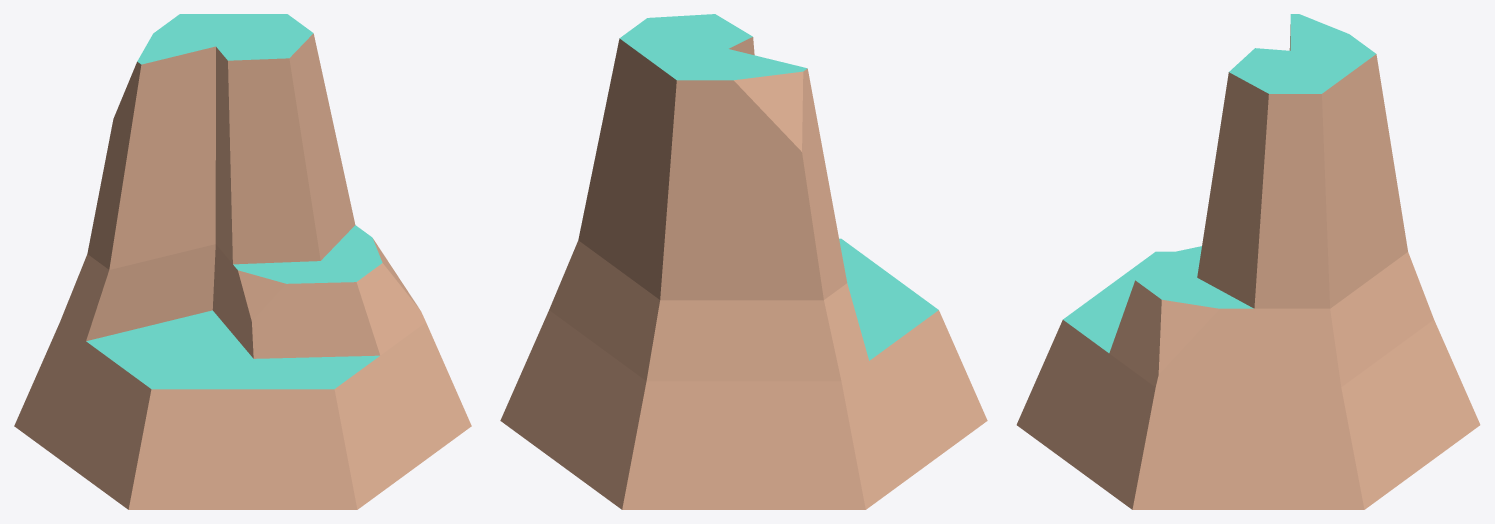
The model's file is Cliff_Complex3.fbx.
The picture shows the model from 3 angles, left to right: view 1: azimuth 30°, elevation 25°; view 2: azimuth 150°, elevation 25°; view 3: azimuth 270°, elevation 25°; orthographic projection. The views are drawn at different scales.
Parts seen in each view (by area): view 1: Cliff_Complex3; view 2: Cliff_Complex3; view 3: Cliff_Complex3.
Boxes of the visible parts, bbox=[...] form: Cliff_Complex3: bbox=[14, 14, 471, 509]; Cliff_Complex3: bbox=[500, 14, 987, 509]; Cliff_Complex3: bbox=[1016, 14, 1480, 509].
Bounding box in the file's own units: 1266 × 1290 × 1462.
